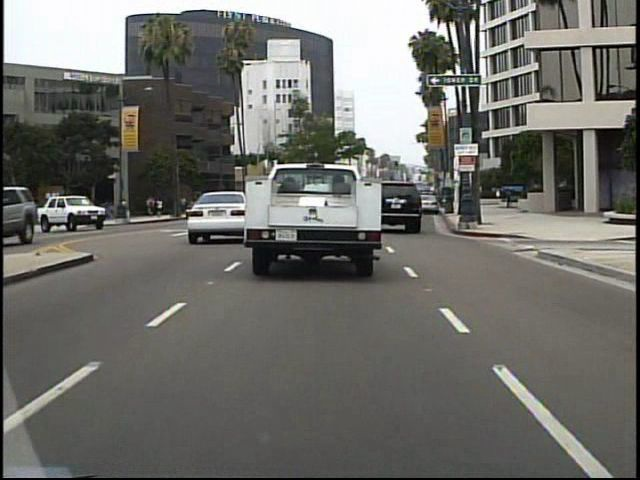person: (12, 193, 34, 235), (76, 190, 92, 227), (68, 195, 84, 229), (115, 189, 131, 220)
